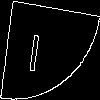I: (25, 25, 44, 72)
